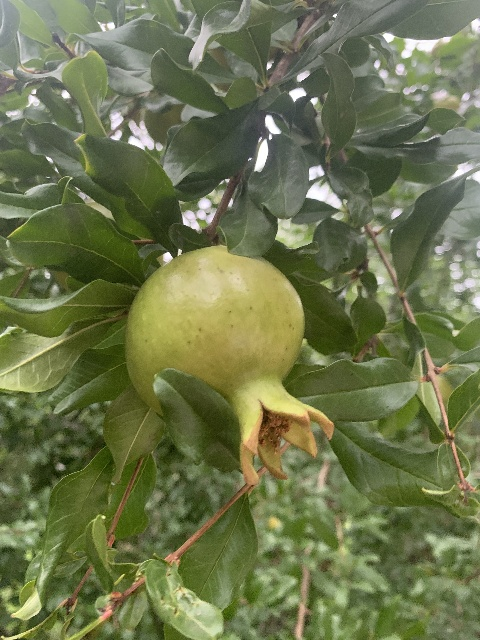mid-growth: (124, 245, 333, 485)
